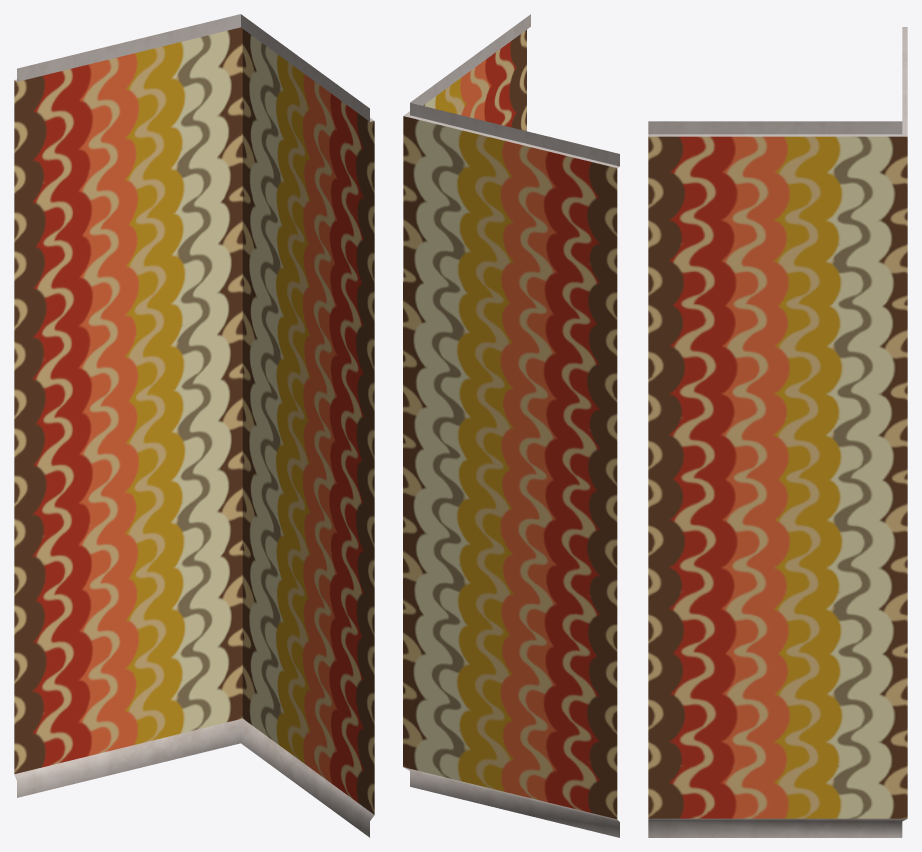
File: MT_WP_ClosedCorner.fbx
3 views of the same model, side by side, from view 1: azimuth 30°, elevation 25°; view 2: azimuth 150°, elevation 25°; view 3: azimuth 270°, elevation 25° (orthographic). The views are drawn at different scales.
Parts seen in each view (by area): view 1: ClosedCorner; view 2: ClosedCorner; view 3: ClosedCorner.
Boxes of the visible parts, x1,y1,x2,y2 form: ClosedCorner: (14, 14, 374, 837); ClosedCorner: (403, 14, 619, 837); ClosedCorner: (648, 27, 907, 837).
Size of the model in its own units: 100 by 305 by 100.
